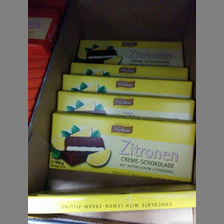chocolate: (46, 112, 195, 182), (76, 37, 185, 67)
